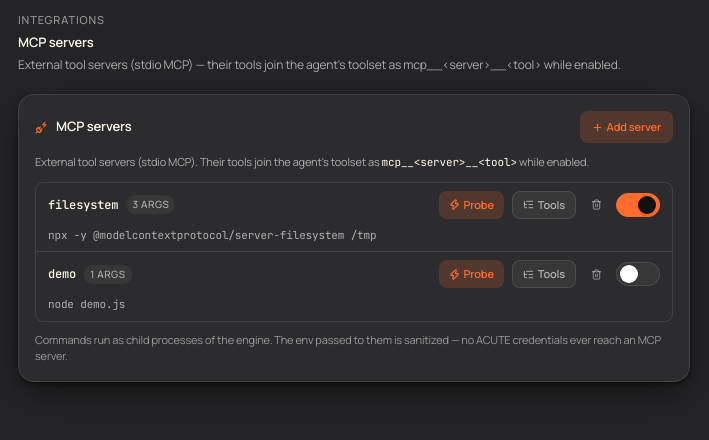
Test: McpTab (ROUND-61 R61-2-a) › renders the server's error when the probe fails
expect the text "filesystem" is shown: met, box [48,196,118,214]
Click the button with aria-label "Probe server filesystem" at (471, 205), box [439,191,504,219]
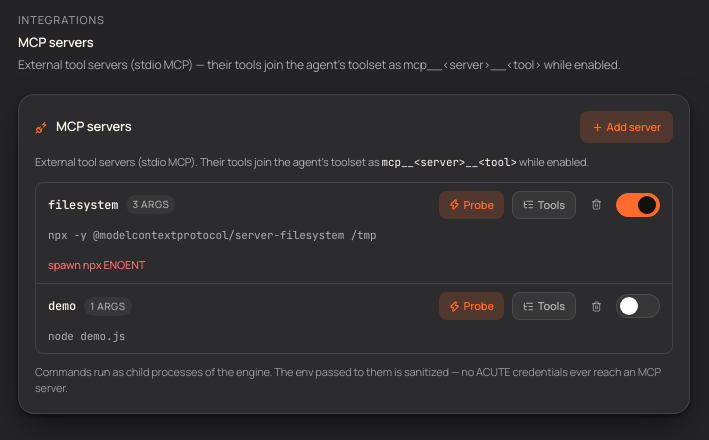
expect the text "spawn npx ENOENT" is shown: met, box [48,257,145,272]
